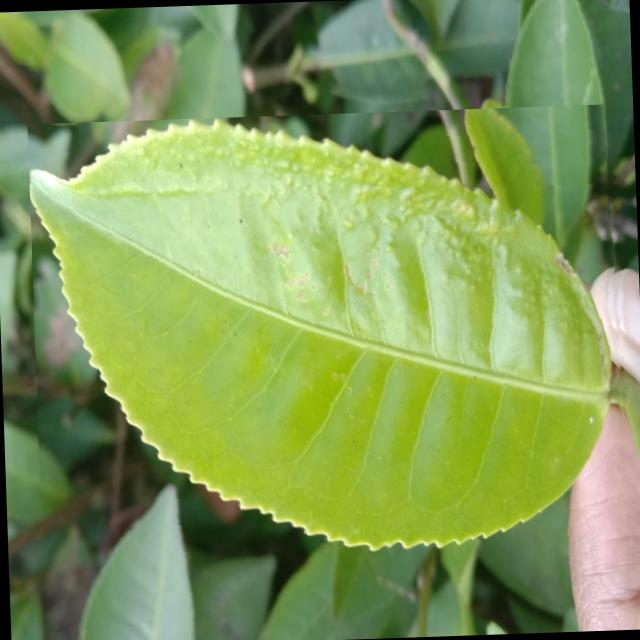Category B 2-4 days: (27, 102, 634, 570)
